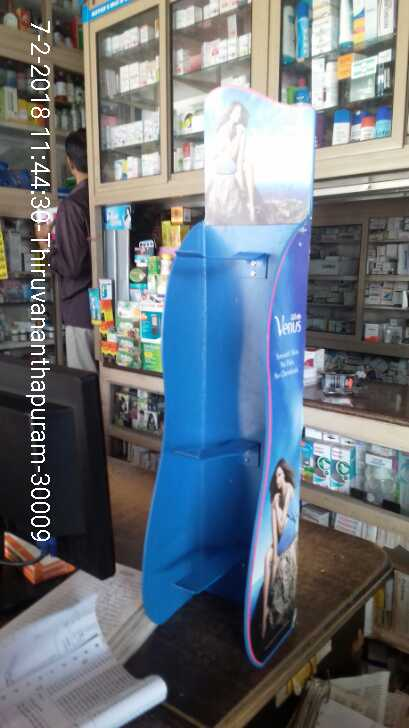reject: (179, 291, 223, 337)
